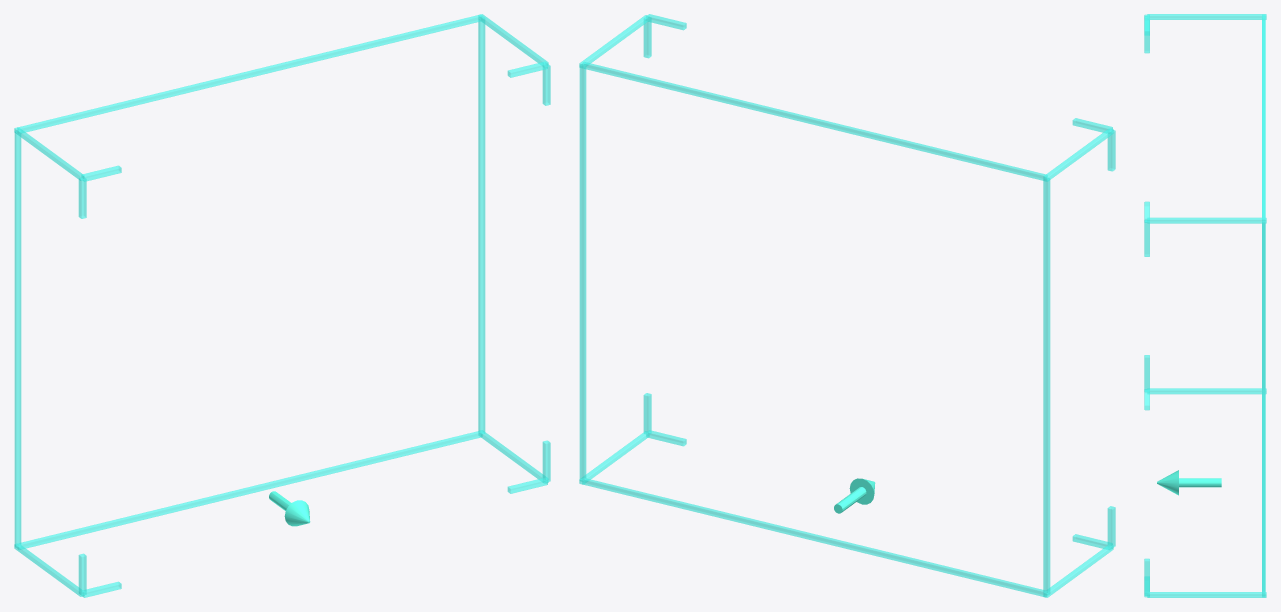
File: WallHabitat_PlacementGhost.fbx
The picture shows the model from 3 angles, left to right: view 1: azimuth 30°, elevation 25°; view 2: azimuth 150°, elevation 25°; view 3: azimuth 270°, elevation 25°; orthographic projection. The views are drawn at different scales.
Visible parts, largest first — view 1: WallHabitat_PlacementGhost_VolumeFrame, WallHabitat_PlacementGhost_FacingArrow; view 2: WallHabitat_PlacementGhost_VolumeFrame, WallHabitat_PlacementGhost_FacingArrow; view 3: WallHabitat_PlacementGhost_VolumeFrame, WallHabitat_PlacementGhost_FacingArrow.
Boxes of the visible parts, bbox=[...] form: WallHabitat_PlacementGhost_VolumeFrame: bbox=[14, 14, 550, 597]; WallHabitat_PlacementGhost_FacingArrow: bbox=[269, 491, 310, 526]; WallHabitat_PlacementGhost_VolumeFrame: bbox=[579, 14, 1115, 597]; WallHabitat_PlacementGhost_FacingArrow: bbox=[834, 478, 875, 513]; WallHabitat_PlacementGhost_VolumeFrame: bbox=[1144, 14, 1266, 597]; WallHabitat_PlacementGhost_FacingArrow: bbox=[1157, 470, 1221, 495].
Size of the model in its own units: 106 by 91.2 by 26.6.
